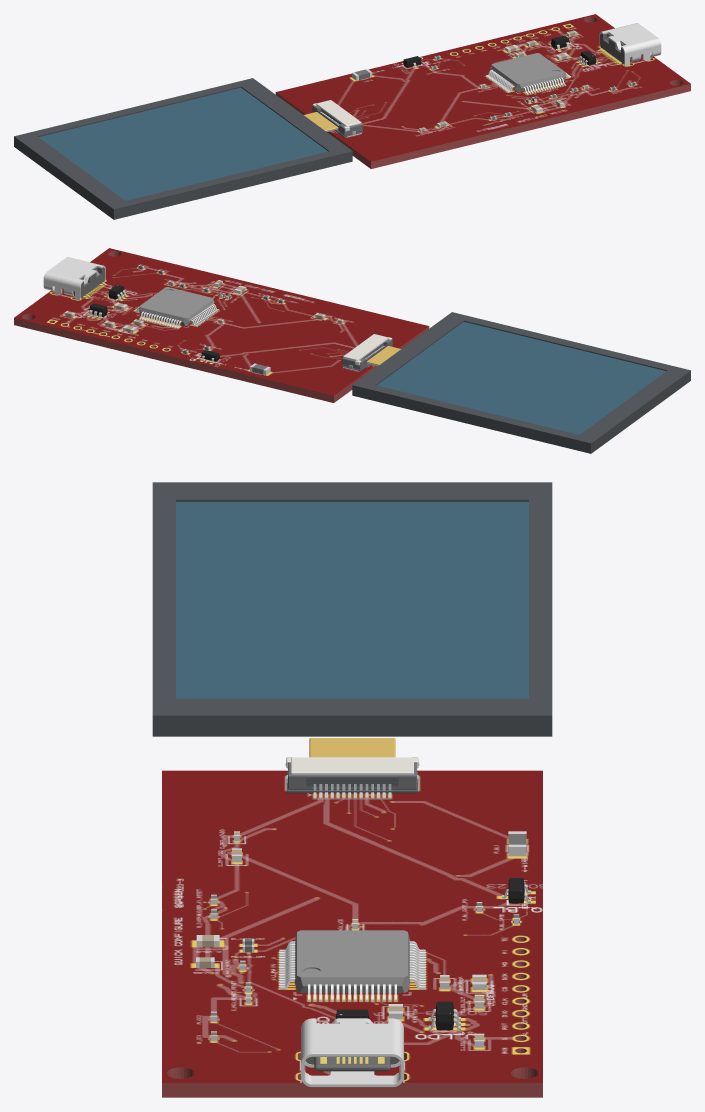
3 views of the same model, one above another, from view 1: azimuth 30°, elevation 25°; view 2: azimuth 150°, elevation 25°; view 3: azimuth 270°, elevation 25° (orthographic). The views are drawn at different scales.
Parts seen in each view (by area): view 1: J_DISPLAY, Box0, U_MAIN, J_USB; view 2: J_DISPLAY, Box0, U_MAIN, J_USB; view 3: J_DISPLAY, Box0, U_MAIN, J_USB.
Boxes of the visible parts, <box> form: J_DISPLAY: <box>14,78,363,219</box>; Box0: <box>275,14,690,168</box>; U_MAIN: <box>485,53,571,94</box>; J_USB: <box>599,23,661,65</box>; J_DISPLAY: <box>341,312,690,453</box>; Box0: <box>14,248,429,402</box>; U_MAIN: <box>133,287,219,328</box>; J_USB: <box>43,257,105,299</box>; J_DISPLAY: <box>152,482,552,798</box>; Box0: <box>162,770,542,1097</box>; U_MAIN: <box>279,930,425,1001</box>; J_USB: <box>301,1018,403,1087</box>.
Bounding box in the file's own units: 117 × 4.73 × 34.6.
27 materials, 2 textured.
